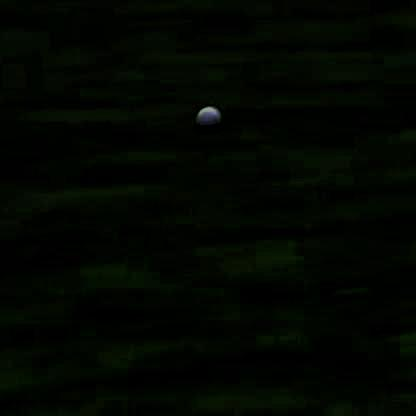golfball: (193, 101, 221, 131)
